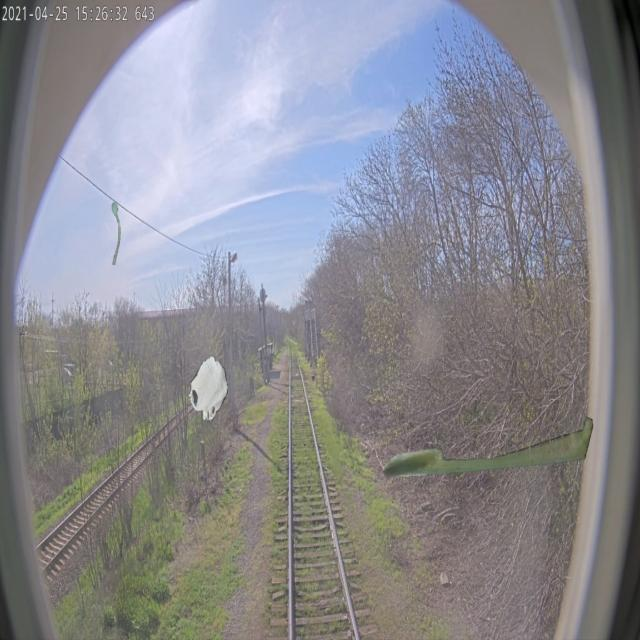floating object: (382, 413, 601, 477), (112, 201, 121, 265)
plastic bag: (188, 356, 228, 420)
